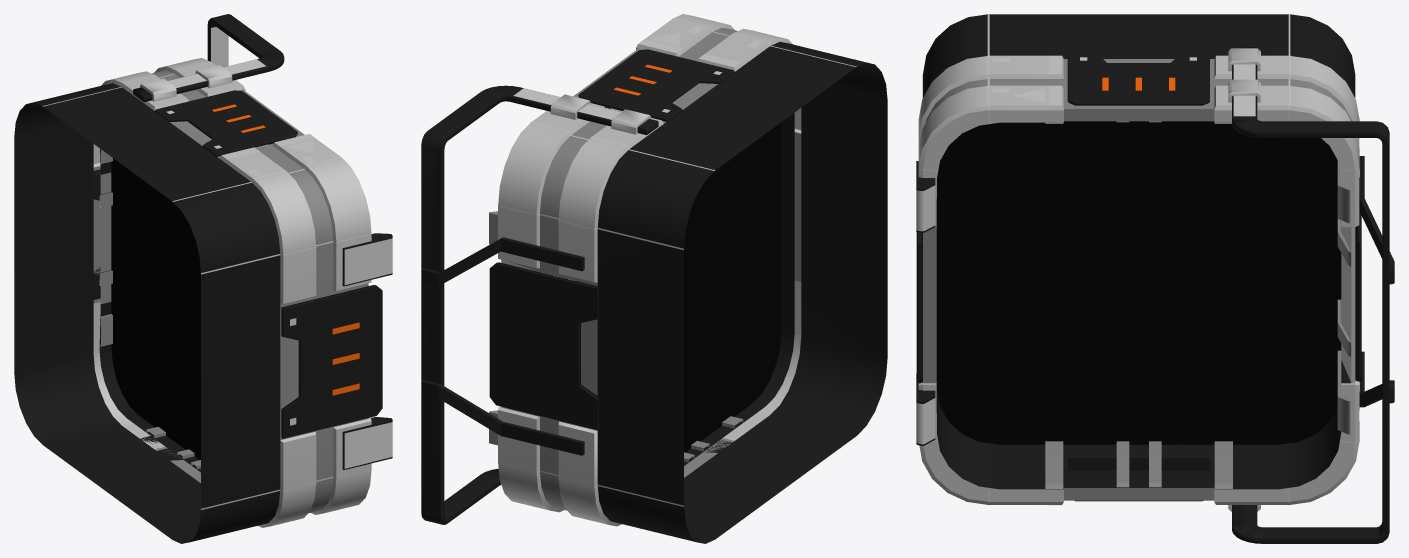
The model's file is FactoryBelt_In.obj.
3 views of the same model, side by side, from view 1: azimuth 30°, elevation 25°; view 2: azimuth 150°, elevation 25°; view 3: azimuth 270°, elevation 25° (orthographic). The views are drawn at different scales.
Visible parts, largest first — view 1: FactoryBelt_In; view 2: FactoryBelt_In; view 3: FactoryBelt_In.
Boxes of the visible parts, <box> form: FactoryBelt_In: <box>14,14,392,543</box>; FactoryBelt_In: <box>421,14,887,543</box>; FactoryBelt_In: <box>916,14,1394,543</box>.
Bounding box in the file's own units: 143 × 218 × 226.
